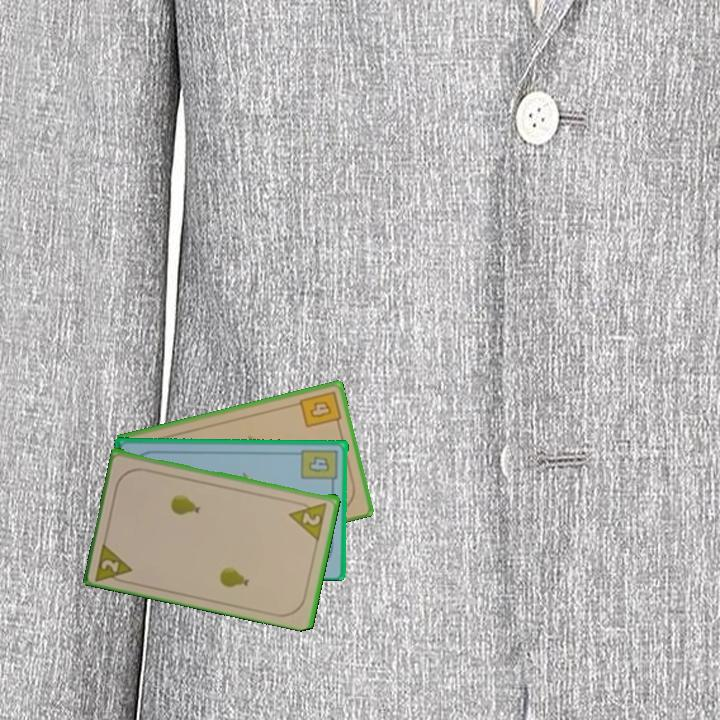2p: (92, 537, 136, 586), (286, 498, 330, 541)
4b: (296, 387, 344, 430), (299, 446, 341, 489)
